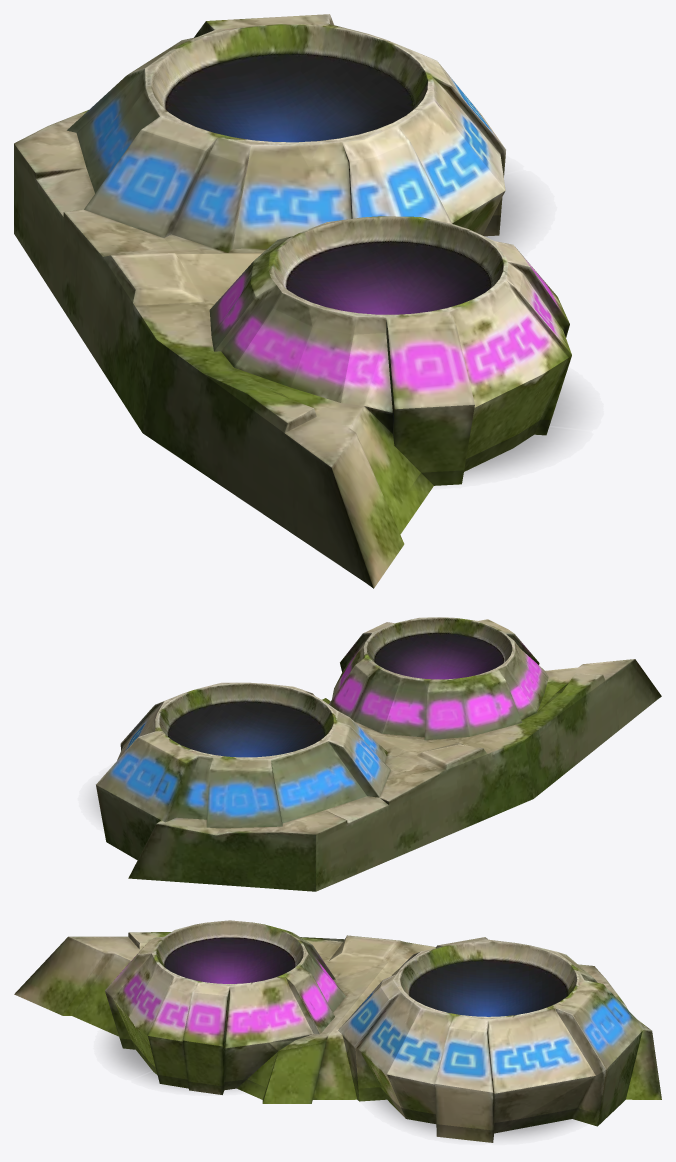
The model's file is grave_near.glb.
3 views of the same model, one above another, from view 1: azimuth 30°, elevation 25°; view 2: azimuth 150°, elevation 25°; view 3: azimuth 270°, elevation 25° (orthographic). The views are drawn at different scales.
Parts seen in each view (by area): view 1: base_0_794c, surface_0_7940; view 2: base_0_794c; view 3: base_0_794c, surface_0_7940.
Part boxes in pixels (box(x1,y1,x2,y2)): base_0_794c: box(14, 14, 571, 588); surface_0_7940: box(416, 176, 576, 481); base_0_794c: box(96, 617, 661, 891); base_0_794c: box(14, 920, 661, 1142); surface_0_7940: box(109, 1028, 588, 1136).
Bounding box in the file's own units: 9.73 × 2.78 × 15.62.
Materials: 2 (2 with a texture image).
